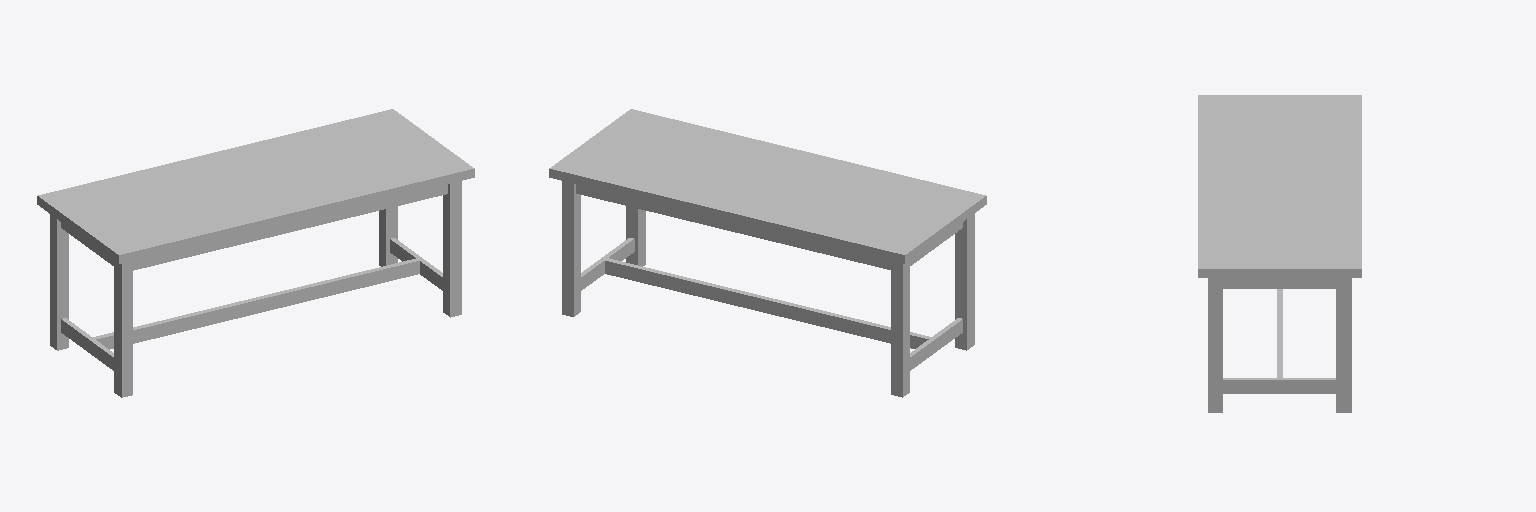
The model's file is mesa.obj.
The picture shows the model from 3 angles: view 1: azimuth 30°, elevation 25°; view 2: azimuth 150°, elevation 25°; view 3: azimuth 270°, elevation 25°; orthographic projection.
Parts seen in each view (by area): view 1: mesa.001; view 2: mesa.001; view 3: mesa.001.
Boxes of the visible parts, x1=… form: mesa.001: x1=37, y1=109, x2=474, y2=397; mesa.001: x1=549, y1=109, x2=986, y2=397; mesa.001: x1=1198, y1=95, x2=1361, y2=412.
Bounding box in the file's own units: 252 × 100 × 100.